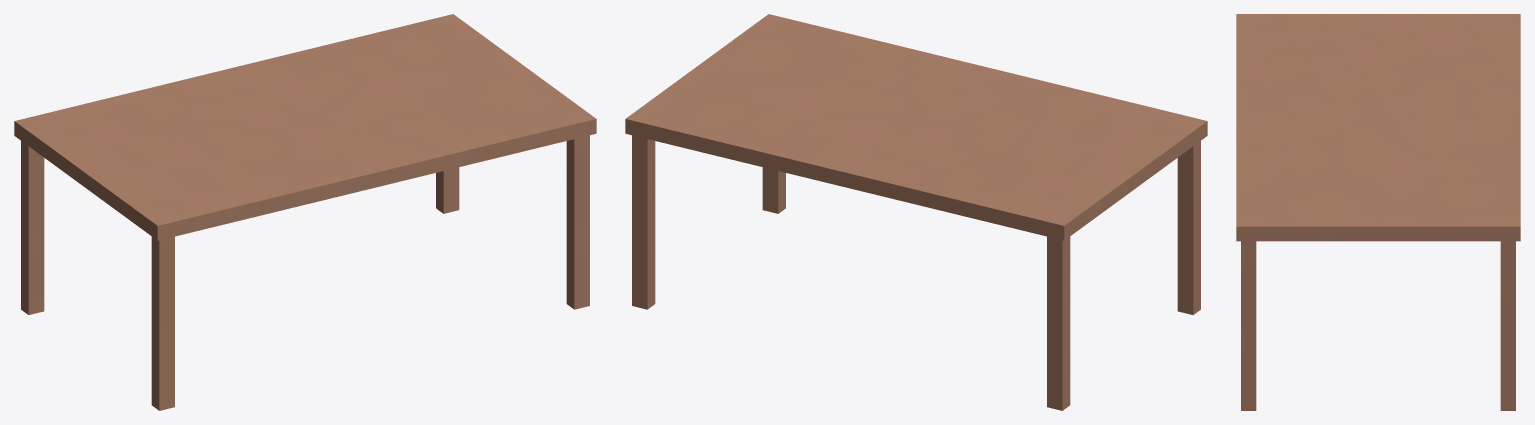
File: Desk_01_01.fbx
3 renders of one model, left to right at view 1: azimuth 30°, elevation 25°; view 2: azimuth 150°, elevation 25°; view 3: azimuth 270°, elevation 25°, orthographic.
Parts seen in each view (by area): view 1: Desk_01_01; view 2: Desk_01_01; view 3: Desk_01_01.
Boxes of the visible parts, x1,y1,x2,y2 form: Desk_01_01: [14, 14, 596, 410]; Desk_01_01: [625, 14, 1207, 410]; Desk_01_01: [1236, 14, 1520, 410].
Size of the model in its own units: 1.98 by 0.8103 by 1.12.
